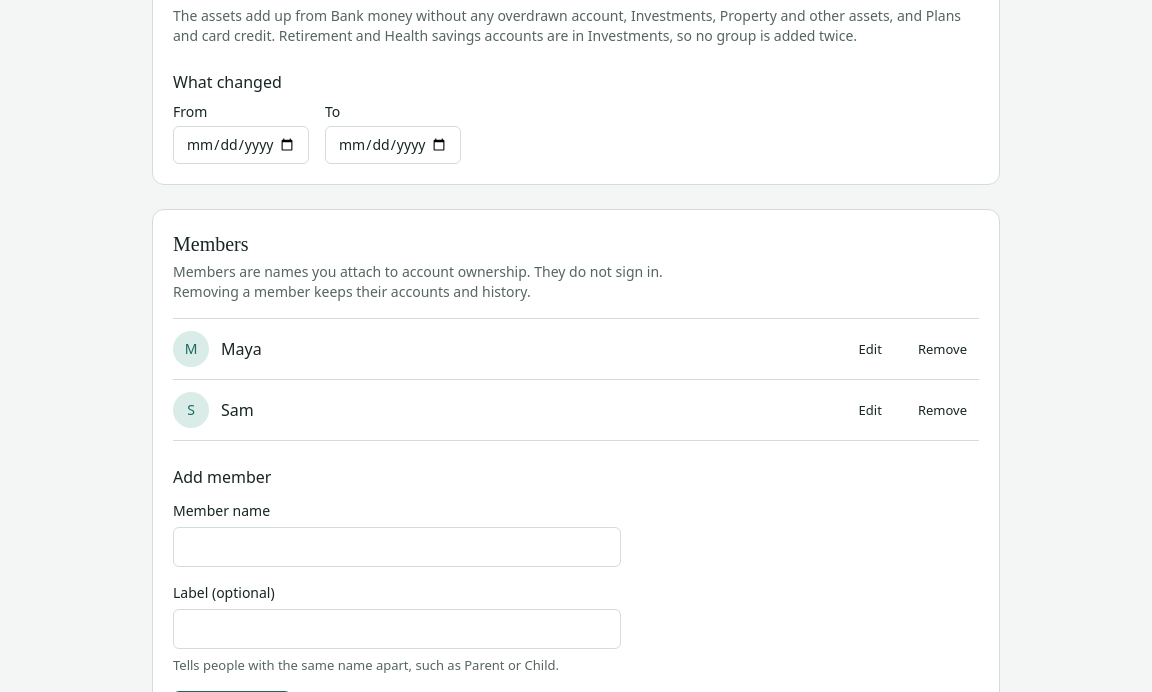
Scenario: renaming a member › V2_MEMBERS_005 reviews the rename, keeps accounts and the earlier name, and cancelling saves nothing
The image size is (1152, 692).
(page scrolled)
Click the button with aria-label "Edit member Maya". click: click(870, 349)
box: 847,333 -> 894,365
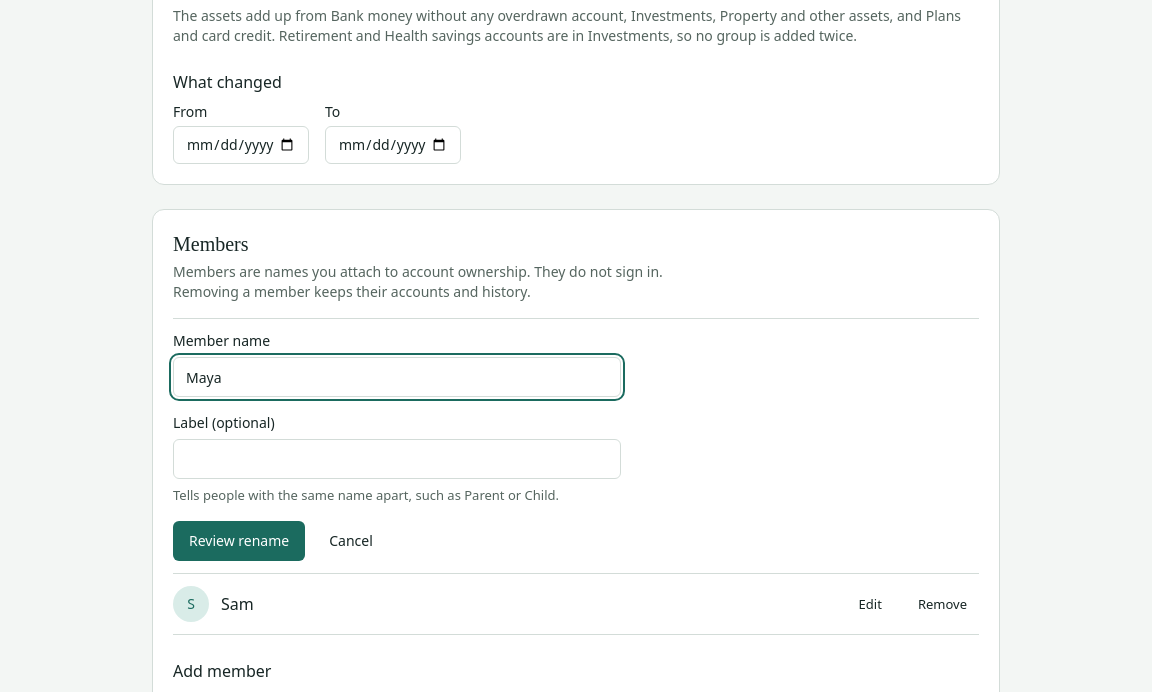
Replace the text in the field labelled "Member name" with "Maya Patel". click: (397, 377)
box: 173,357 -> 621,397
Click the button "Review rename". click: click(239, 541)
box: 173,521 -> 305,561
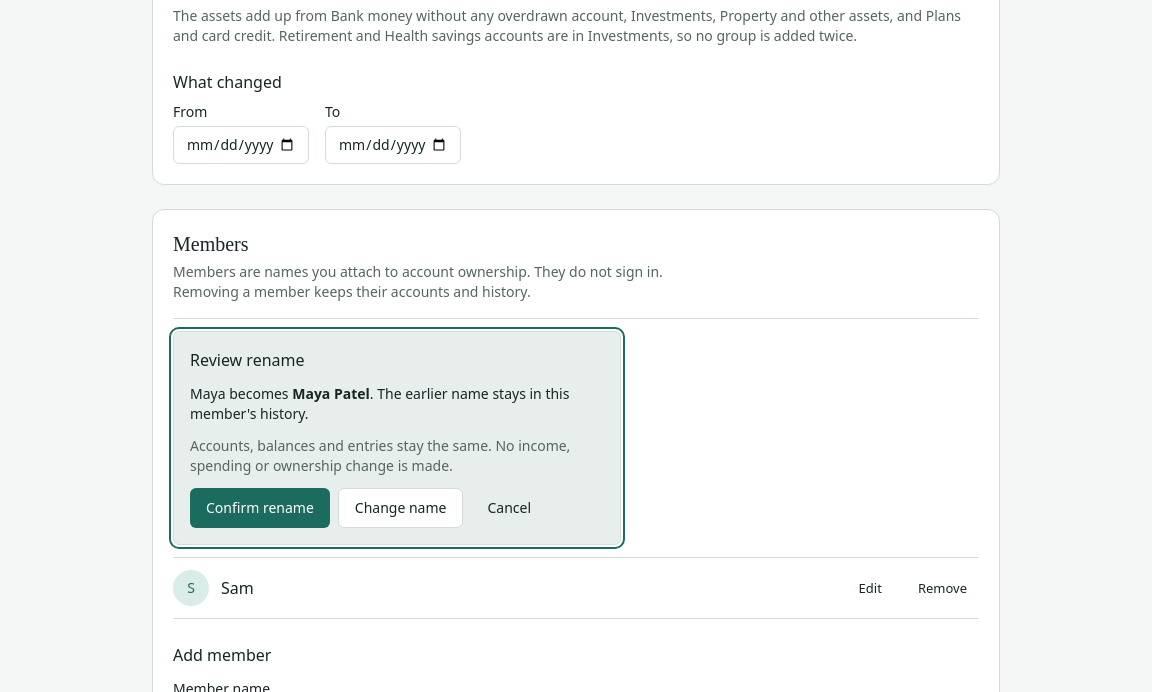
Expected: the element "Review rename" shows "Maya", 190,384 -> 226,403
Expected: the element "Review rename" shows "Maya Patel", 292,384 -> 370,403
Expected: the element "Review rename" shows "Accounts, balances and entries stay the same", 190,436 -> 570,475
Click the button "Cancel". click: click(509, 508)
box: 472,488 -> 547,528
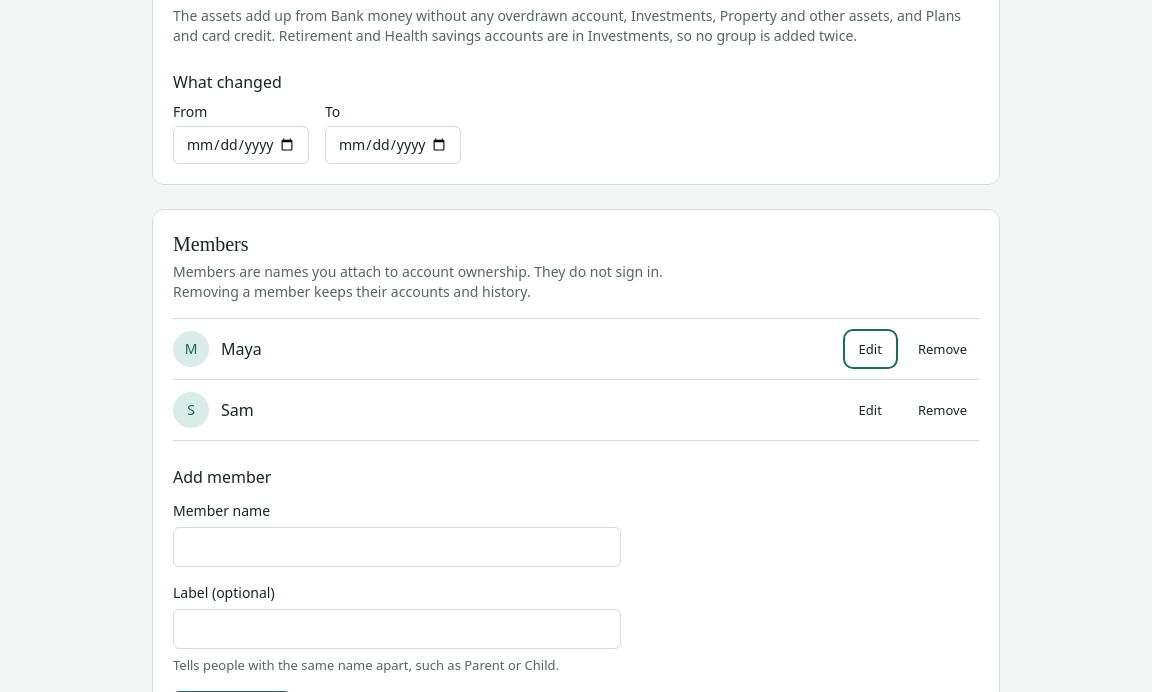
Expected: the text "Maya" is shown, 221,338 -> 262,360
Expected: the heading "Review rename" is gone
Click the button with aria-label "Edit member Maya". click: click(870, 349)
box: 847,333 -> 894,365
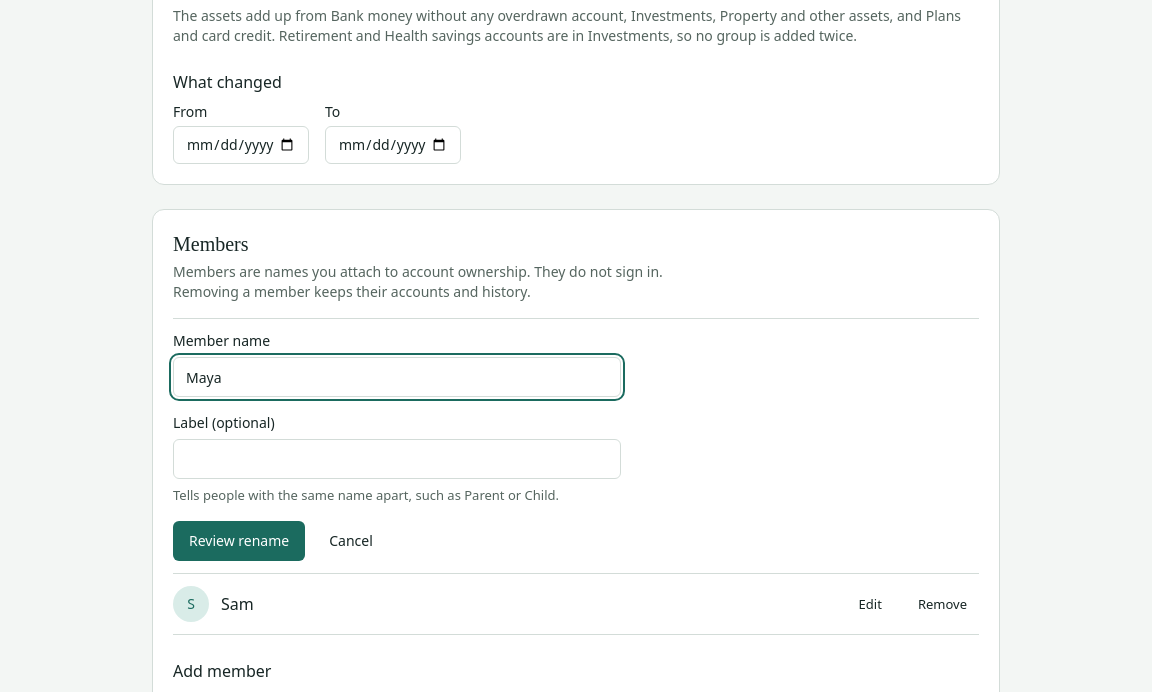
Replace the text in the field labelled "Member name" with "Maya Patel". click: (397, 377)
box: 173,357 -> 621,397
Click the button "Review rename". click: click(239, 541)
box: 173,521 -> 305,561
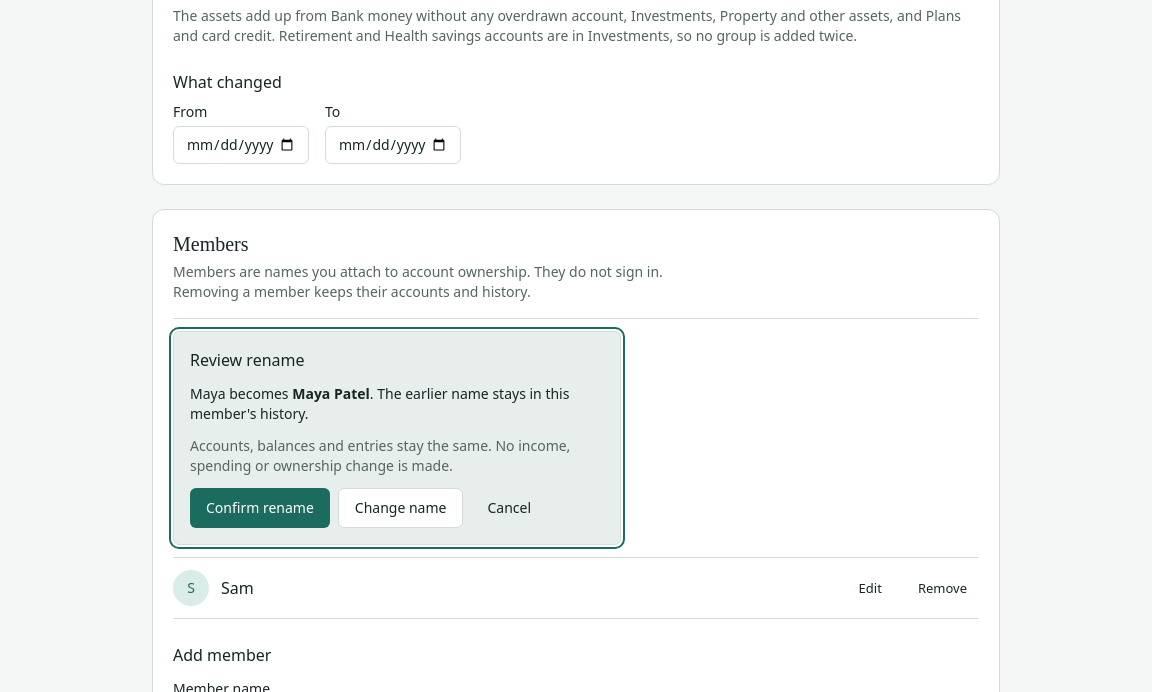
Click the button "Confirm rename". click: click(260, 508)
box: 190,488 -> 330,528
(page scrolled)
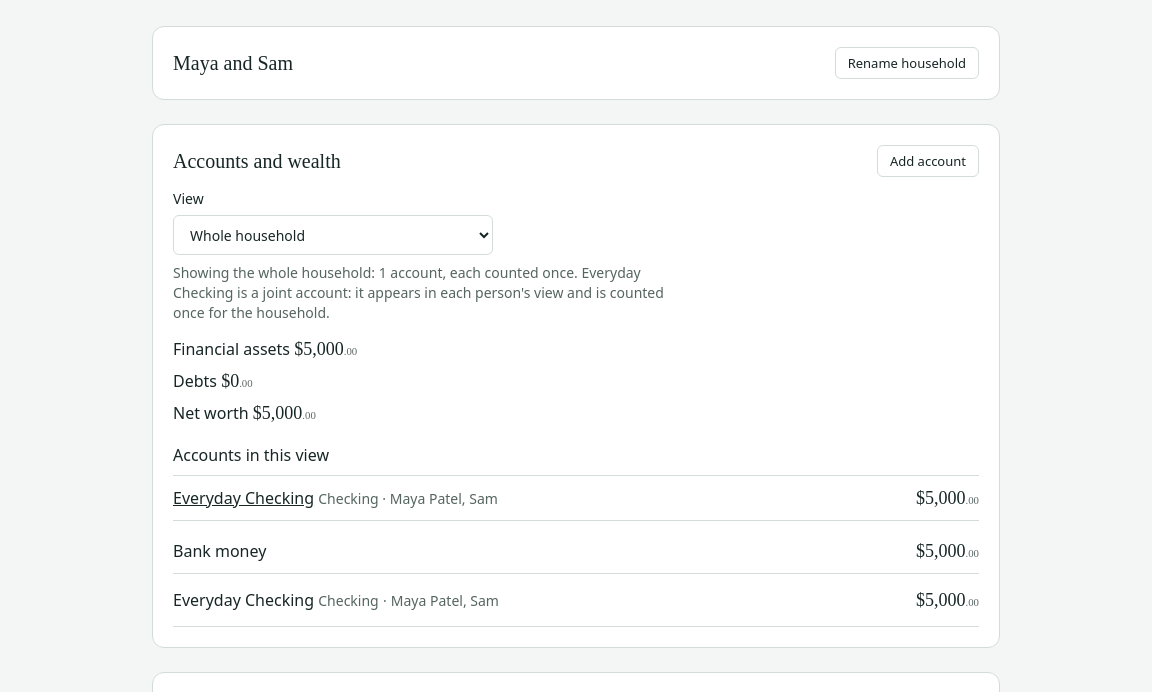
Expected: the text "Financial assets $5,000.00" is shown, 173,338 -> 357,360
Expected: the text "Maya Patel, Sam" is shown, 391,591 -> 499,610
